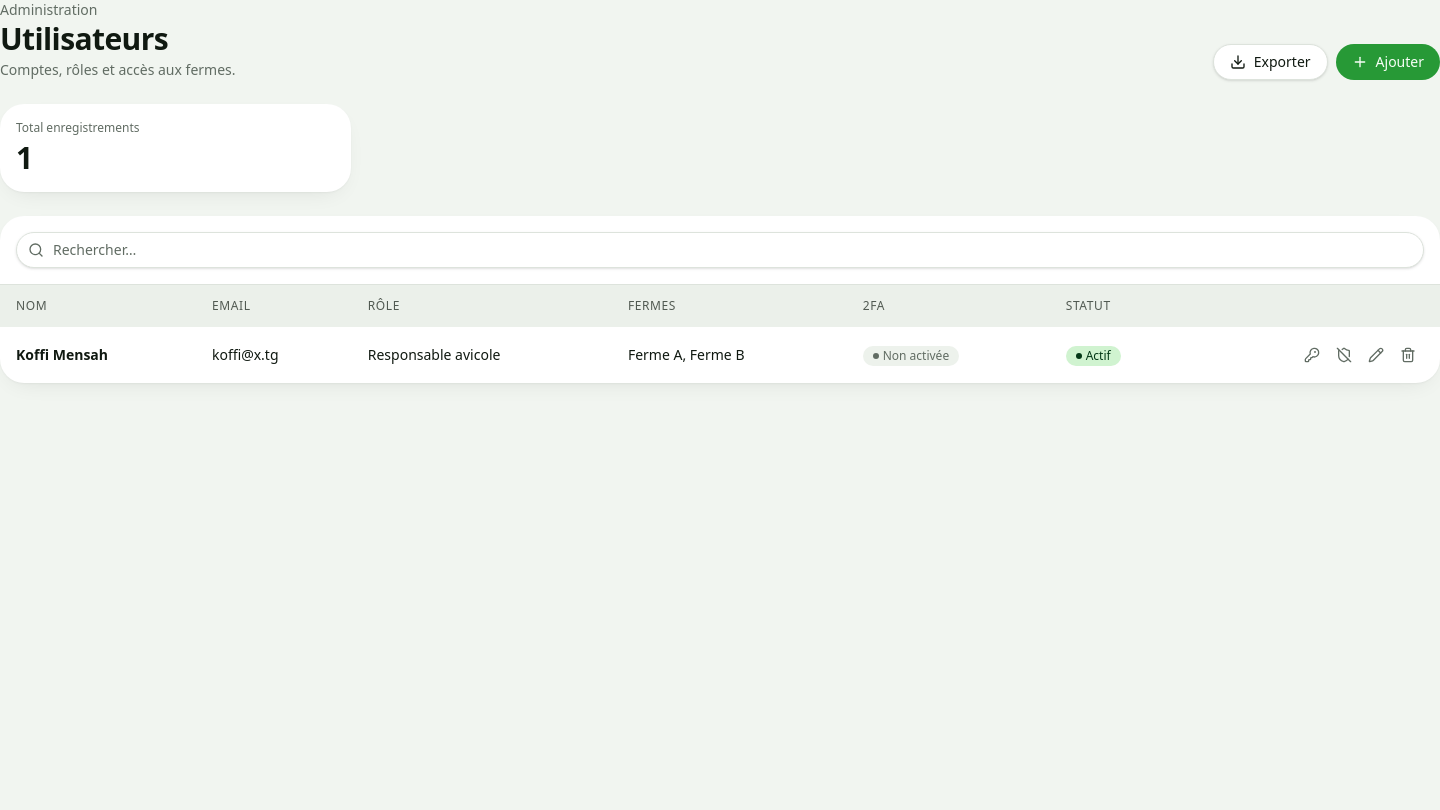
Scenario: Users page › shows the reset link with its expiry in a dialog
This screenshot has width=1440, height=810.
Expected: the text "Koffi Mensah" is shown, [0, 326, 196, 382]
Step 1. Click the button named "Lien de réinitialisation" → (1312, 354), box [1296, 338, 1328, 370]
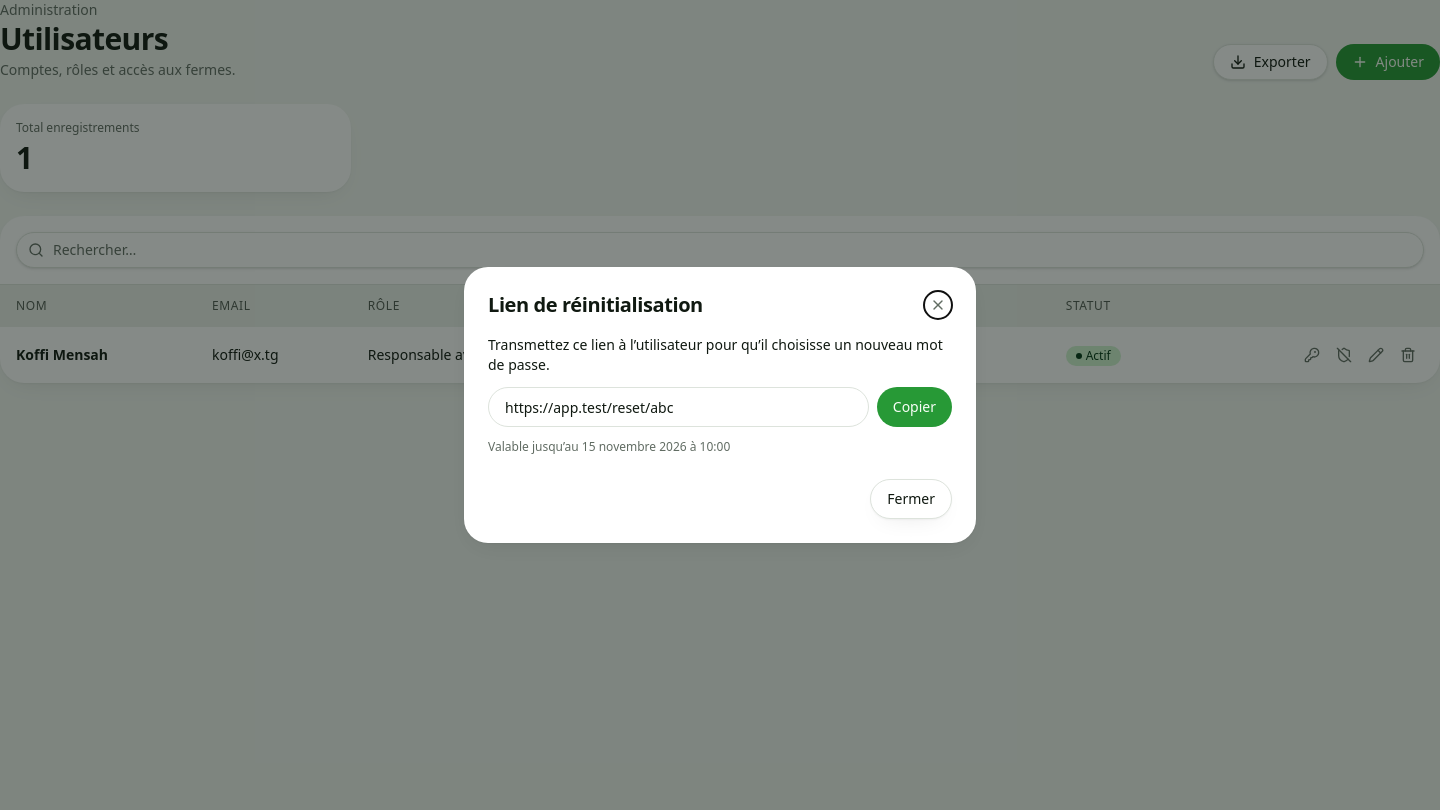
Expected: the button "Copier" is shown, [877, 387, 952, 427]
Expected: the dialog "Lien de réinitialisation" shows "Valable jusqu’au", [488, 438, 582, 455]
